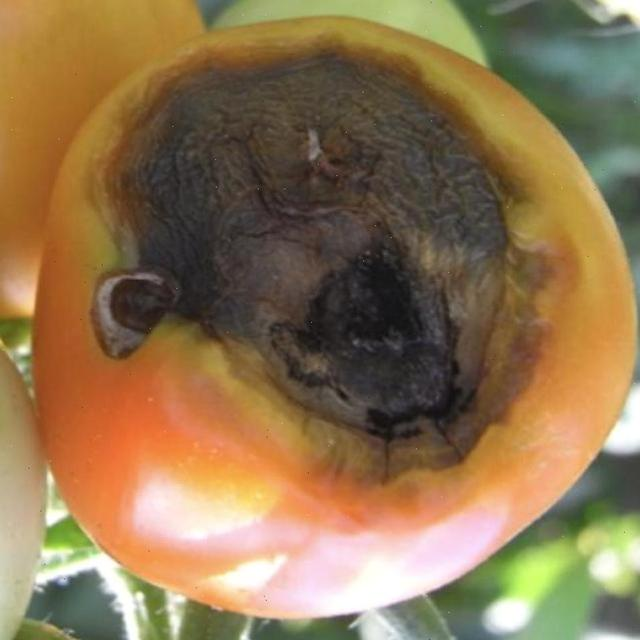Blossom End Rot Fruit: (58, 11, 374, 334)
